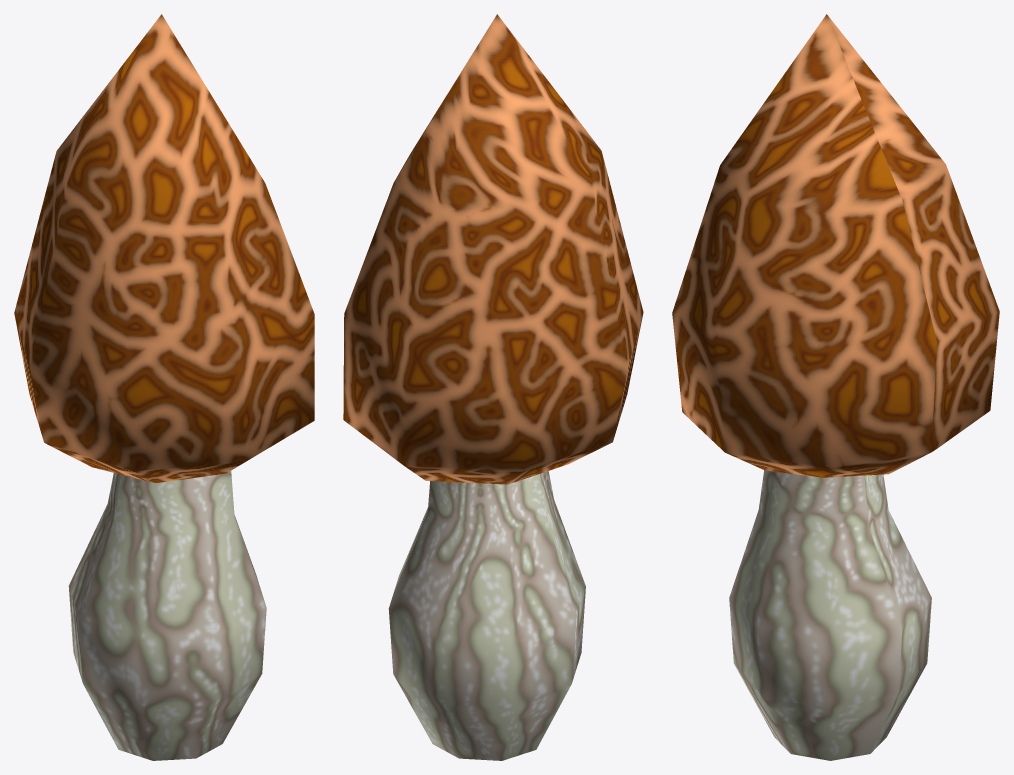
File: morel_low.obj
3 renders of one model, left to right at view 1: azimuth 30°, elevation 25°; view 2: azimuth 150°, elevation 25°; view 3: azimuth 270°, elevation 25°, orthographic.
Parts seen in each view (by area): view 1: morel_low; view 2: morel_low; view 3: morel_low.
Boxes of the visible parts, left/top/right/bottom form: morel_low: left=14, top=14, right=314, bottom=760; morel_low: left=343, top=14, right=643, bottom=760; morel_low: left=672, top=14, right=999, bottom=760.
Size of the model in its own units: 0.4089 by 1.09 by 0.45.
